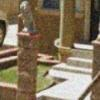stairs: (48, 44, 93, 78)
